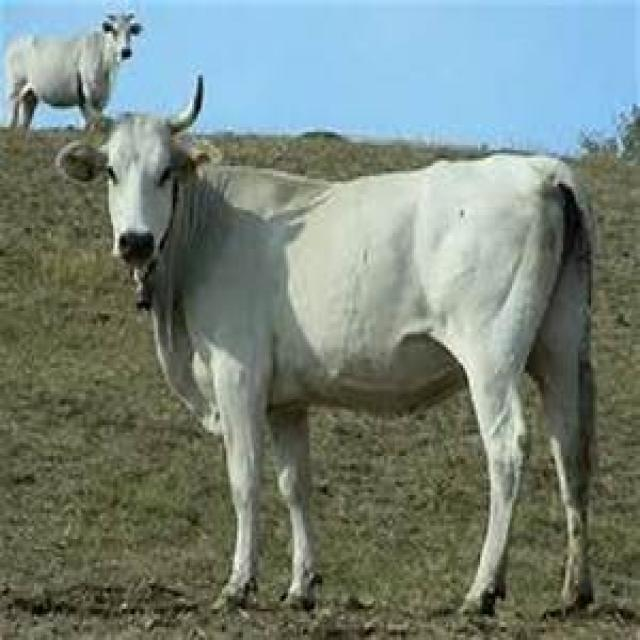animal: (76, 99, 640, 566), (3, 0, 168, 130)
